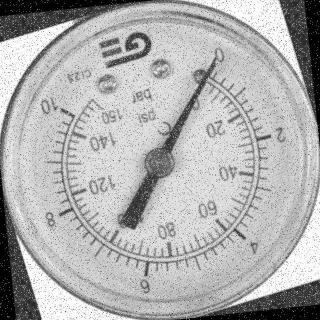gauge: (0, 0, 320, 320), (191, 44, 231, 86), (42, 88, 80, 128), (142, 146, 176, 180), (203, 48, 224, 70)
